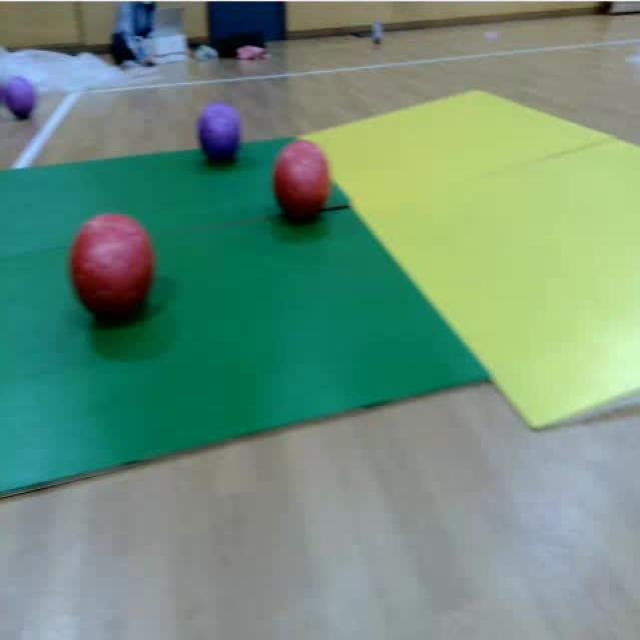purple_ball: (197, 100, 239, 164), (6, 77, 36, 120)
red_ball: (68, 211, 164, 329), (272, 142, 329, 225)
